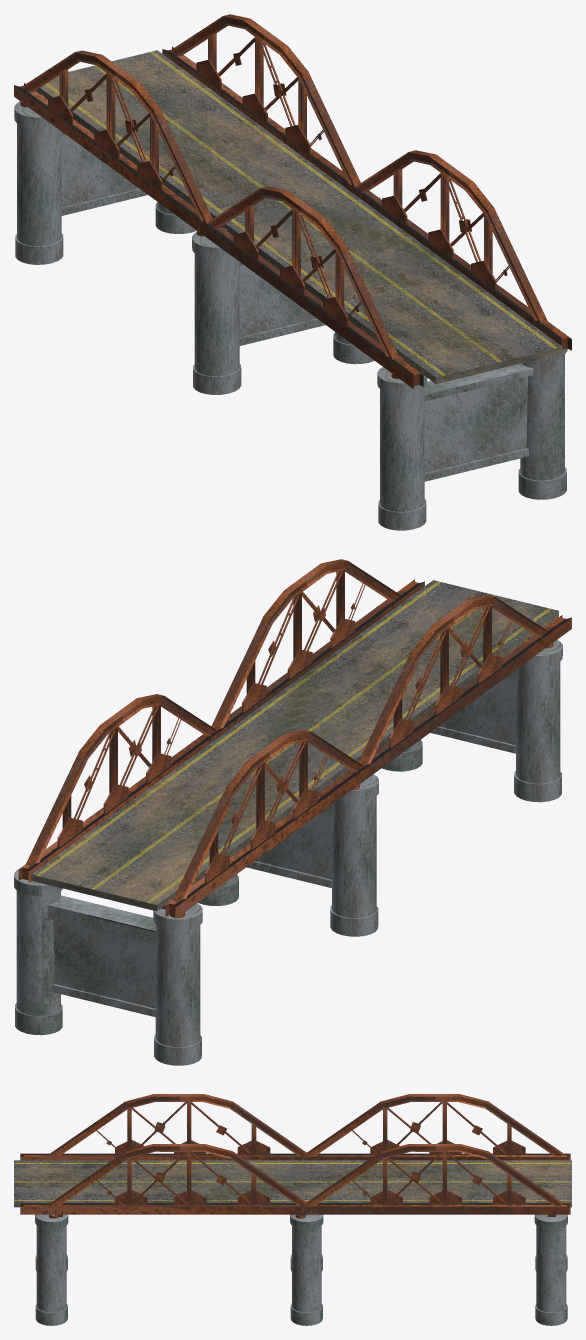
The model's file is MH_bridge_00.fbx.
3 views of the same model, one above another, from view 1: azimuth 30°, elevation 25°; view 2: azimuth 150°, elevation 25°; view 3: azimuth 270°, elevation 25° (orthographic). The views are drawn at different scales.
Parts seen in each view (by area): view 1: polySurface604; view 2: polySurface604; view 3: polySurface604.
Boxes of the visible parts, <box> form: polySurface604: <box>14,14,571,530</box>; polySurface604: <box>14,559,571,1065</box>; polySurface604: <box>14,1094,571,1325</box>.
Bounding box in the file's own units: 873 × 1143 × 3322.
1 material, 1 textured.
